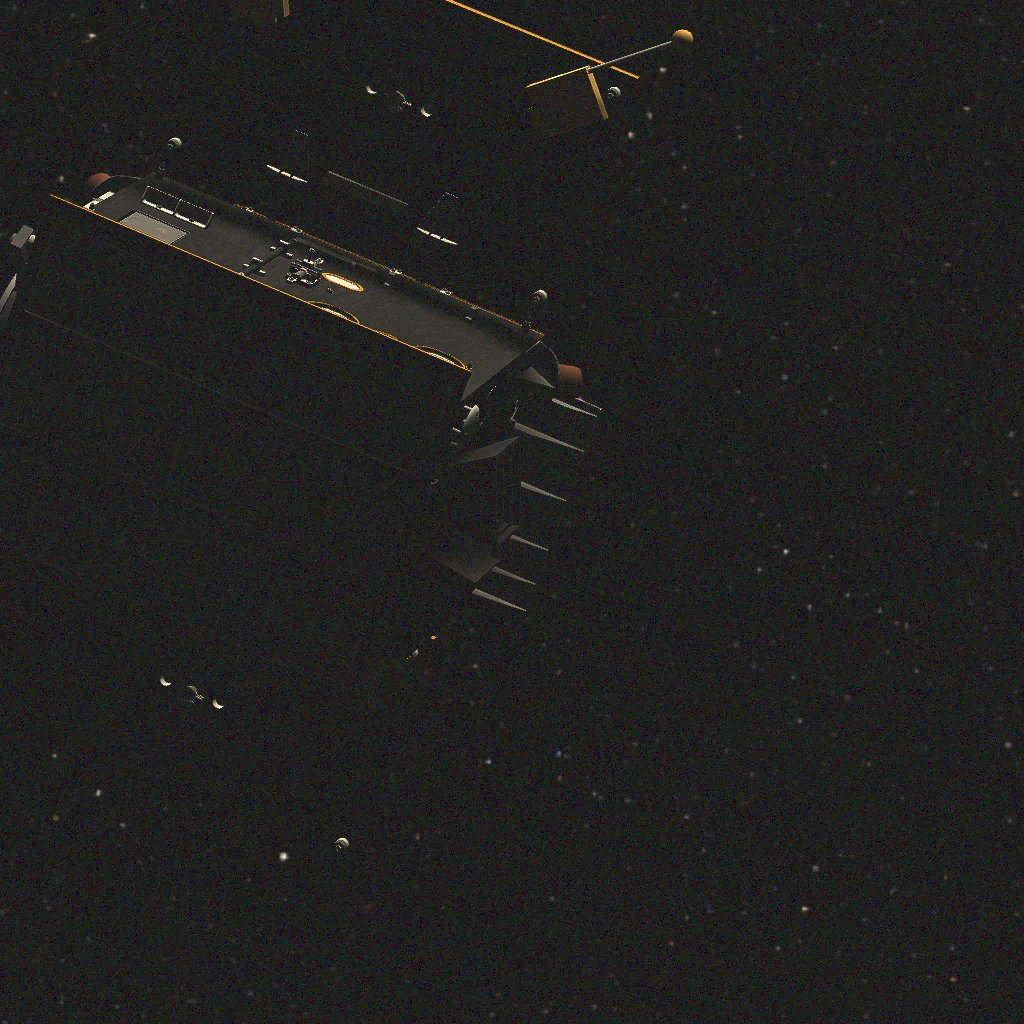proba_2: (14, 32, 647, 800)
